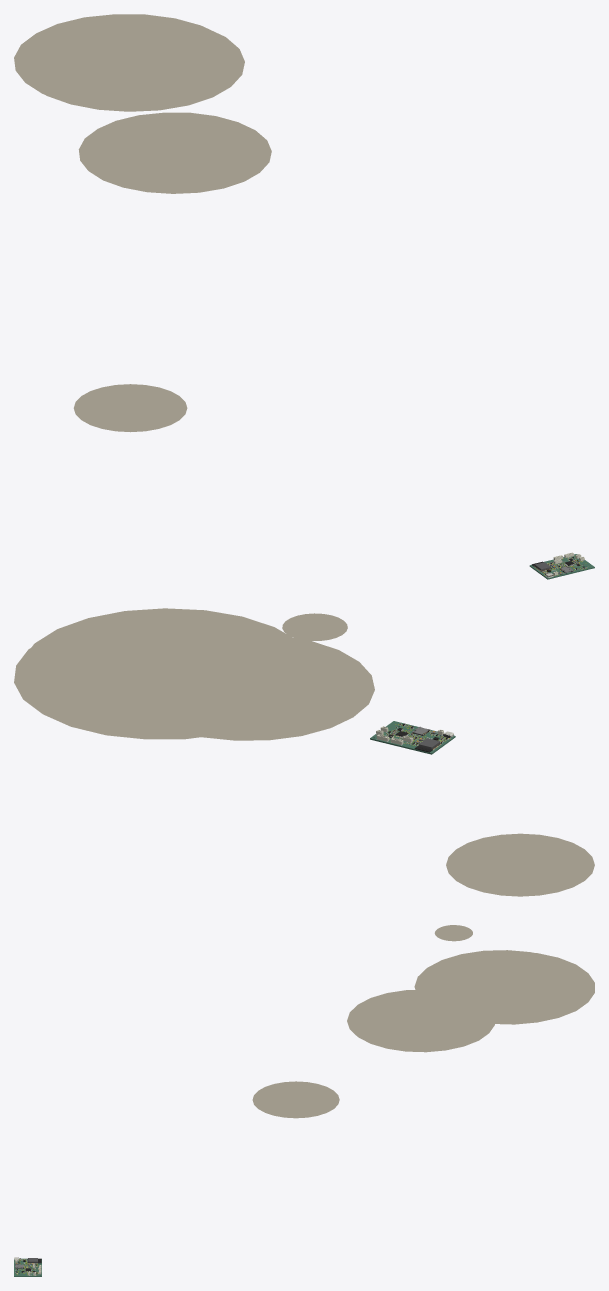
File: board.glb
3 views of the same model, one above another, from view 1: azimuth 30°, elevation 25°; view 2: azimuth 150°, elevation 25°; view 3: azimuth 270°, elevation 25° (orthographic). The views are drawn at different scales.
Visible parts, largest first — view 1: D11, Q2, U4, U7, D10; view 2: D11, U4, Q2, D10, U7, board; view 3: D11, Q2, U4, D10, U7.
Part boxes in pixels (x1=…): D11: x1=18, y1=16, x2=578, y2=561; Q2: x1=78, y1=112, x2=271, y2=193; U4: x1=73, y1=384, x2=580, y2=566; U7: x1=56, y1=65, x2=577, y2=569; D10: x1=14, y1=14, x2=573, y2=558; D11: x1=20, y1=608, x2=390, y2=733; U4: x1=396, y1=728, x2=594, y2=896; Q2: x1=201, y1=638, x2=438, y2=740; D10: x1=14, y1=648, x2=303, y2=739; U7: x1=282, y1=613, x2=413, y2=728; board: x1=370, y1=721, x2=455, y2=754; D11: x1=414, y1=950, x2=587, y2=1023; Q2: x1=18, y1=990, x2=494, y2=1262; U4: x1=21, y1=1081, x2=339, y2=1272; D10: x1=36, y1=953, x2=594, y2=1273; U7: x1=16, y1=925, x2=472, y2=1270.
Size of the model in its own units: 0.5233 by 0.5118 by 1.04.
